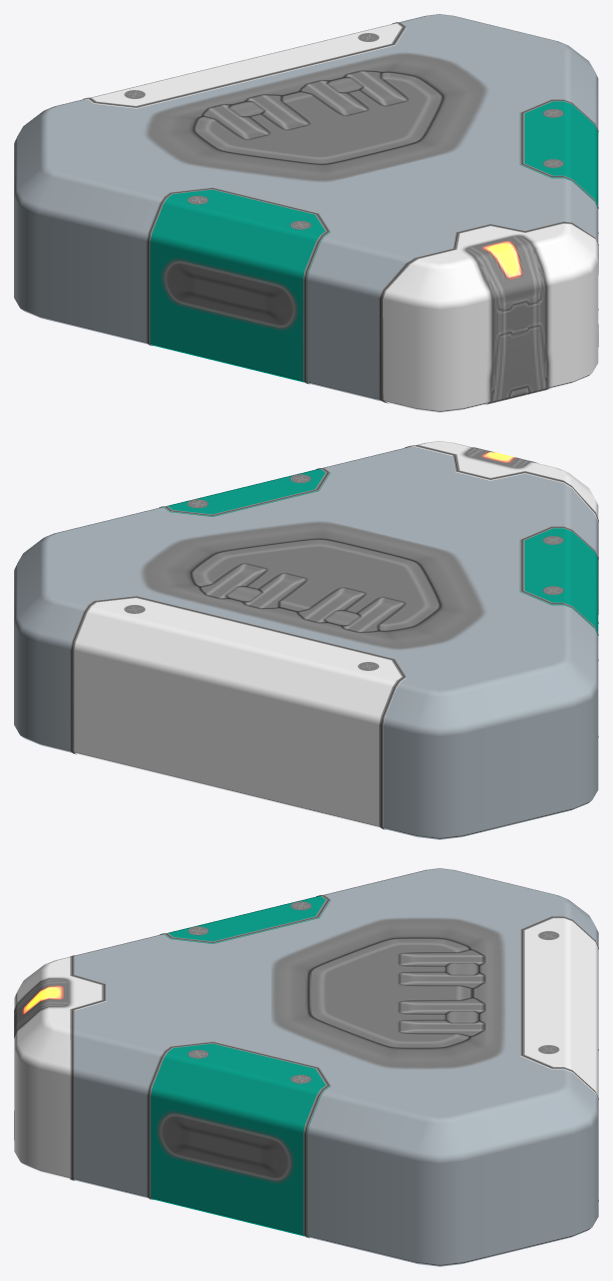
Rendered from storage-case.glb.
The picture shows the model from 3 angles, top to bottom: view 1: azimuth 30°, elevation 25°; view 2: azimuth 150°, elevation 25°; view 3: azimuth 270°, elevation 25°; orthographic projection.
Parts seen in each view (by area): view 1: Container004, Container004_d_Decals_0; view 2: Container004, Container004_d_Decals_0; view 3: Container004, Container004_d_Decals_0.
Part boxes in pixels (left/top/right/bottom): Container004: left=14, top=14, right=598, bottom=412; Container004_d_Decals_0: left=83, top=22, right=598, bottom=404; Container004: left=14, top=441, right=598, bottom=839; Container004_d_Decals_0: left=70, top=445, right=598, bottom=829; Container004: left=14, top=868, right=598, bottom=1266; Container004_d_Decals_0: left=14, top=895, right=598, bottom=1238.
Size of the model in its own units: 0.8337 by 0.1914 by 0.7386.
Materials: 4 (1 with a texture image).
